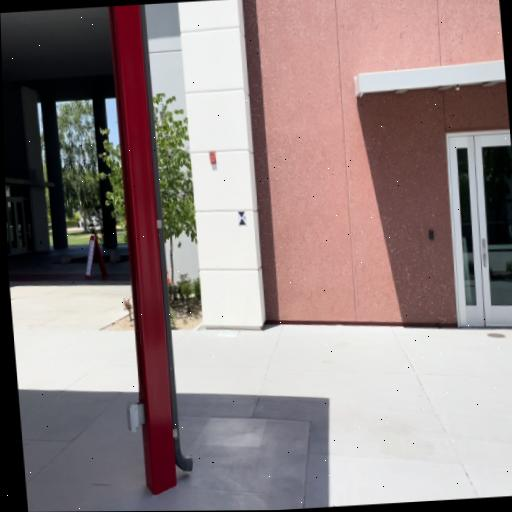target9: (238, 211, 247, 226)
